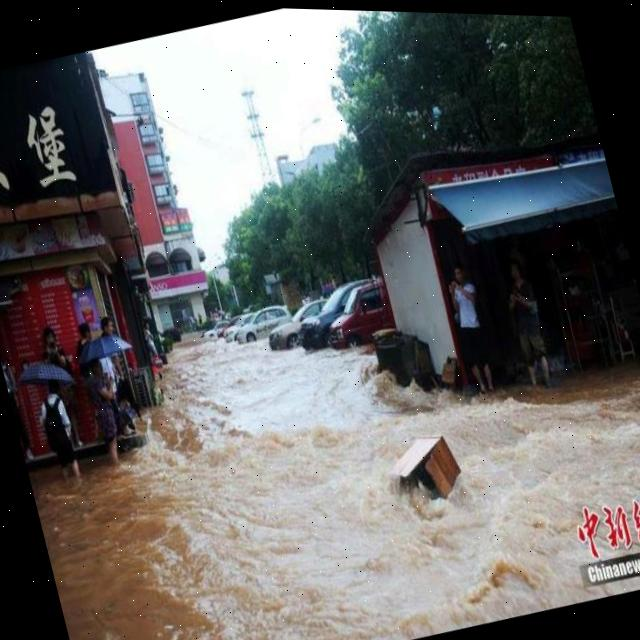civilian: (434, 252, 507, 396), (497, 249, 563, 391), (31, 315, 98, 454), (27, 369, 97, 495), (77, 358, 143, 483), (96, 313, 150, 445), (63, 314, 103, 372)
